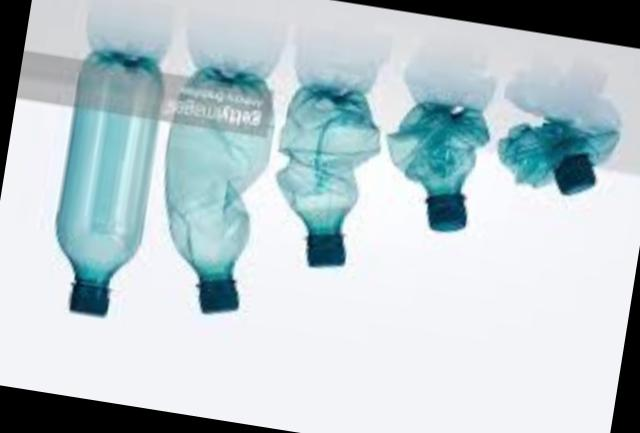plastic: (59, 56, 164, 320), (168, 73, 274, 317), (279, 91, 381, 269), (391, 107, 490, 233), (498, 120, 618, 195)
